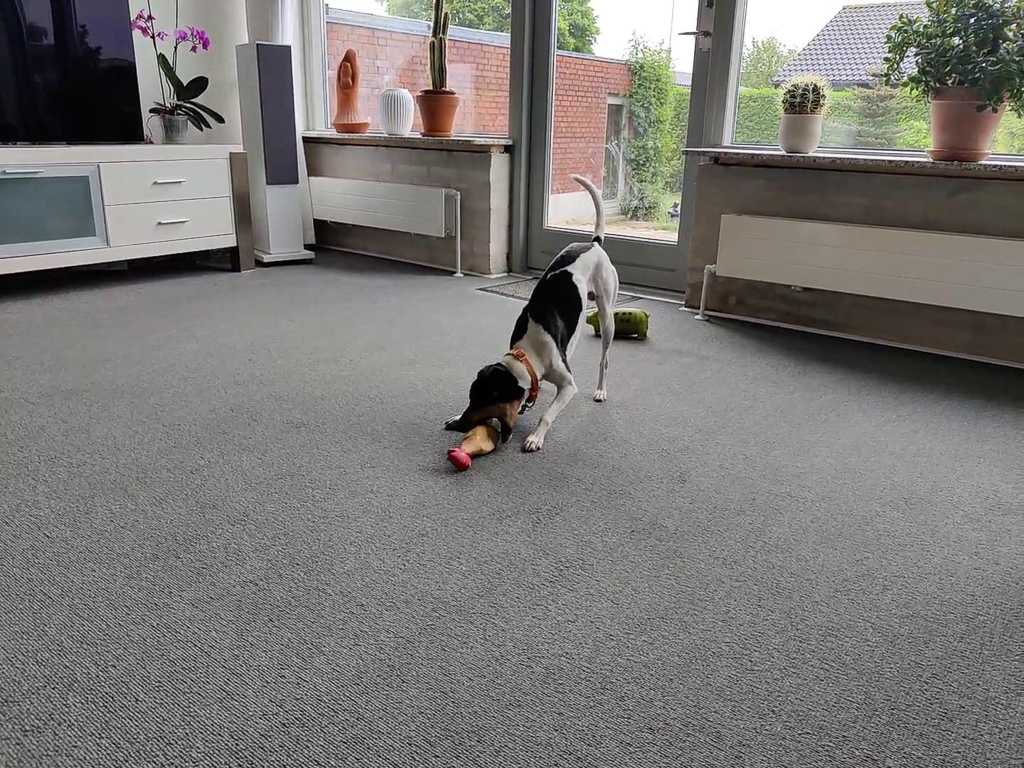Dog: (427, 165, 636, 473)
Humanoid: (321, 44, 381, 127), (665, 198, 683, 222)
